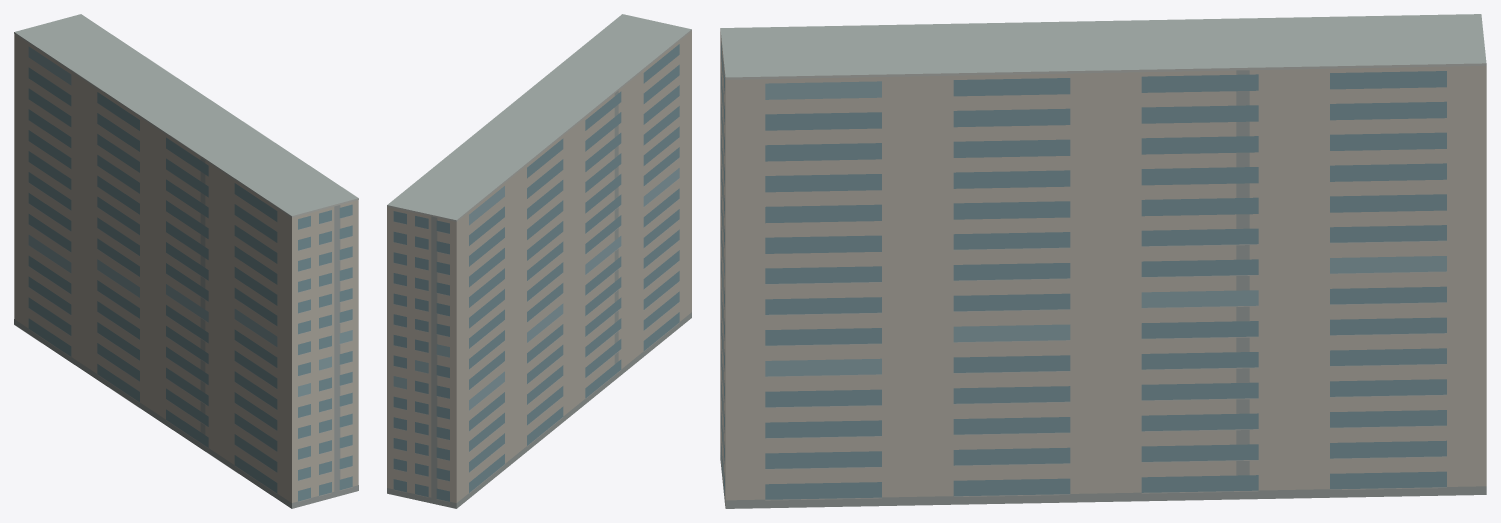
File: residential-2837dd7c-7773-414a-806d-9c6acbbd093a.glb
3 renders of one model, left to right at view 1: azimuth 30°, elevation 25°; view 2: azimuth 150°, elevation 25°; view 3: azimuth 270°, elevation 25°, orthographic. The views are drawn at different scales.
Visible parts, largest first — view 1: residential-2837dd7c-7773-414a-806d-9c6acbbd093a.tmp; view 2: residential-2837dd7c-7773-414a-806d-9c6acbbd093a.tmp; view 3: residential-2837dd7c-7773-414a-806d-9c6acbbd093a.tmp.
Part boxes in pixels (bbox=[...]): residential-2837dd7c-7773-414a-806d-9c6acbbd093a.tmp: bbox=[14, 14, 358, 508]; residential-2837dd7c-7773-414a-806d-9c6acbbd093a.tmp: bbox=[387, 14, 691, 508]; residential-2837dd7c-7773-414a-806d-9c6acbbd093a.tmp: bbox=[720, 14, 1486, 508].
Bounding box in the file's own units: 13.48 × 42.7 × 68.72.
